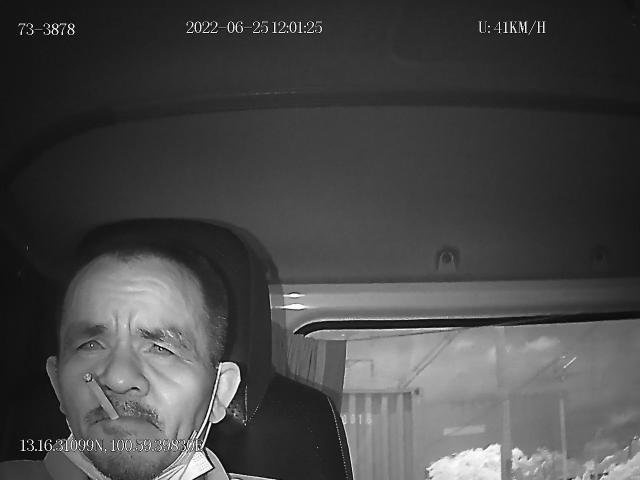SafeDriving: (138, 328, 186, 364), (68, 325, 114, 362)
Smoking: (82, 372, 121, 421)
